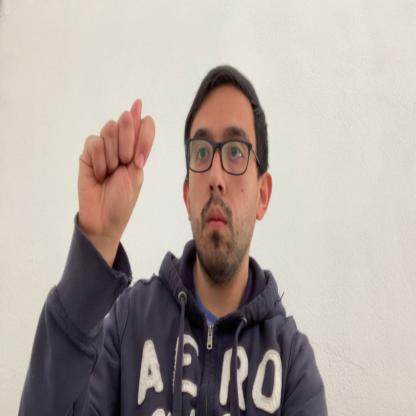T: (77, 96, 155, 230)
